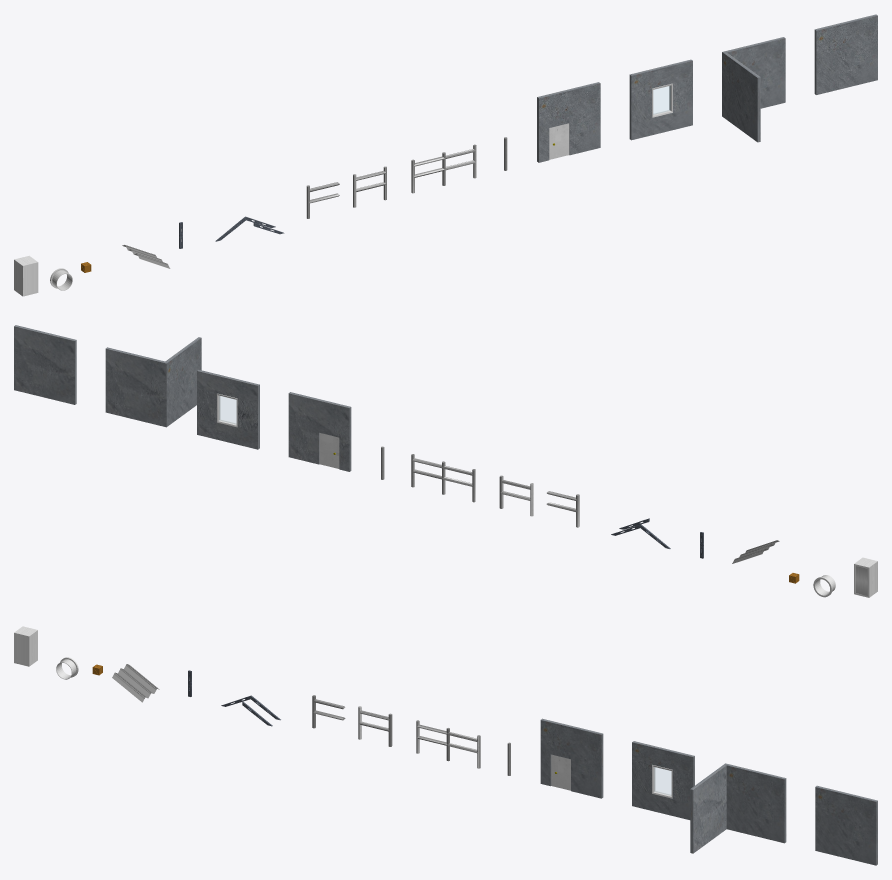
File: Assets.fbx
The picture shows the model from 3 angles, top to bottom: view 1: azimuth 30°, elevation 25°; view 2: azimuth 150°, elevation 25°; view 3: azimuth 330°, elevation 25°; orthographic projection.
Visible parts, largest first — view 1: Cube.002, Cube.001, Cube.003, Cube.004, Cube.007, Circle, Cube.012; view 2: Cube.002, Cube.001, Cube.004, Cube.003, Circle, Cube.012, Cube.007; view 3: Cube.002, Cube.001, Cube.004, Cube.003, Cube.007, Plane, Circle, Cube.012, Circle.002.
Part boxes in pixels (x1=…): Cube.002: x1=722, y1=37, x2=785, y2=142; Cube.001: x1=814, y1=14, x2=877, y2=94; Cube.003: x1=629, y1=59, x2=692, y2=140; Cube.004: x1=537, y1=82, x2=600, y2=162; Cube.007: x1=14, y1=255, x2=38, y2=296; Circle: x1=411, y1=144, x2=476, y2=193; Cube.012: x1=549, y1=123, x2=569, y2=159; Cube.002: x1=105, y1=337, x2=201, y2=427; Cube.001: x1=14, y1=325, x2=76, y2=404; Cube.004: x1=288, y1=392, x2=351, y2=471; Cube.003: x1=197, y1=370, x2=259, y2=449; Circle: x1=411, y1=454, x2=475, y2=502; Cube.012: x1=319, y1=433, x2=339, y2=468; Cube.007: x1=854, y1=557, x2=877, y2=597; Cube.002: x1=690, y1=763, x2=786, y2=853; Cube.001: x1=815, y1=785, x2=877, y2=865; Cube.004: x1=540, y1=718, x2=603, y2=798; Cube.003: x1=632, y1=741, x2=694, y2=819; Cube.007: x1=14, y1=626, x2=37, y2=666; Plane: x1=112, y1=664, x2=159, y2=702; Circle: x1=416, y1=720, x2=480, y2=768; Cube.012: x1=551, y1=754, x2=570, y2=790; Circle.002: x1=358, y1=706, x2=392, y2=746.
Bounding box in the file's own units: 5600 × 460 × 431.
Materials: 8 (5 with a texture image).
